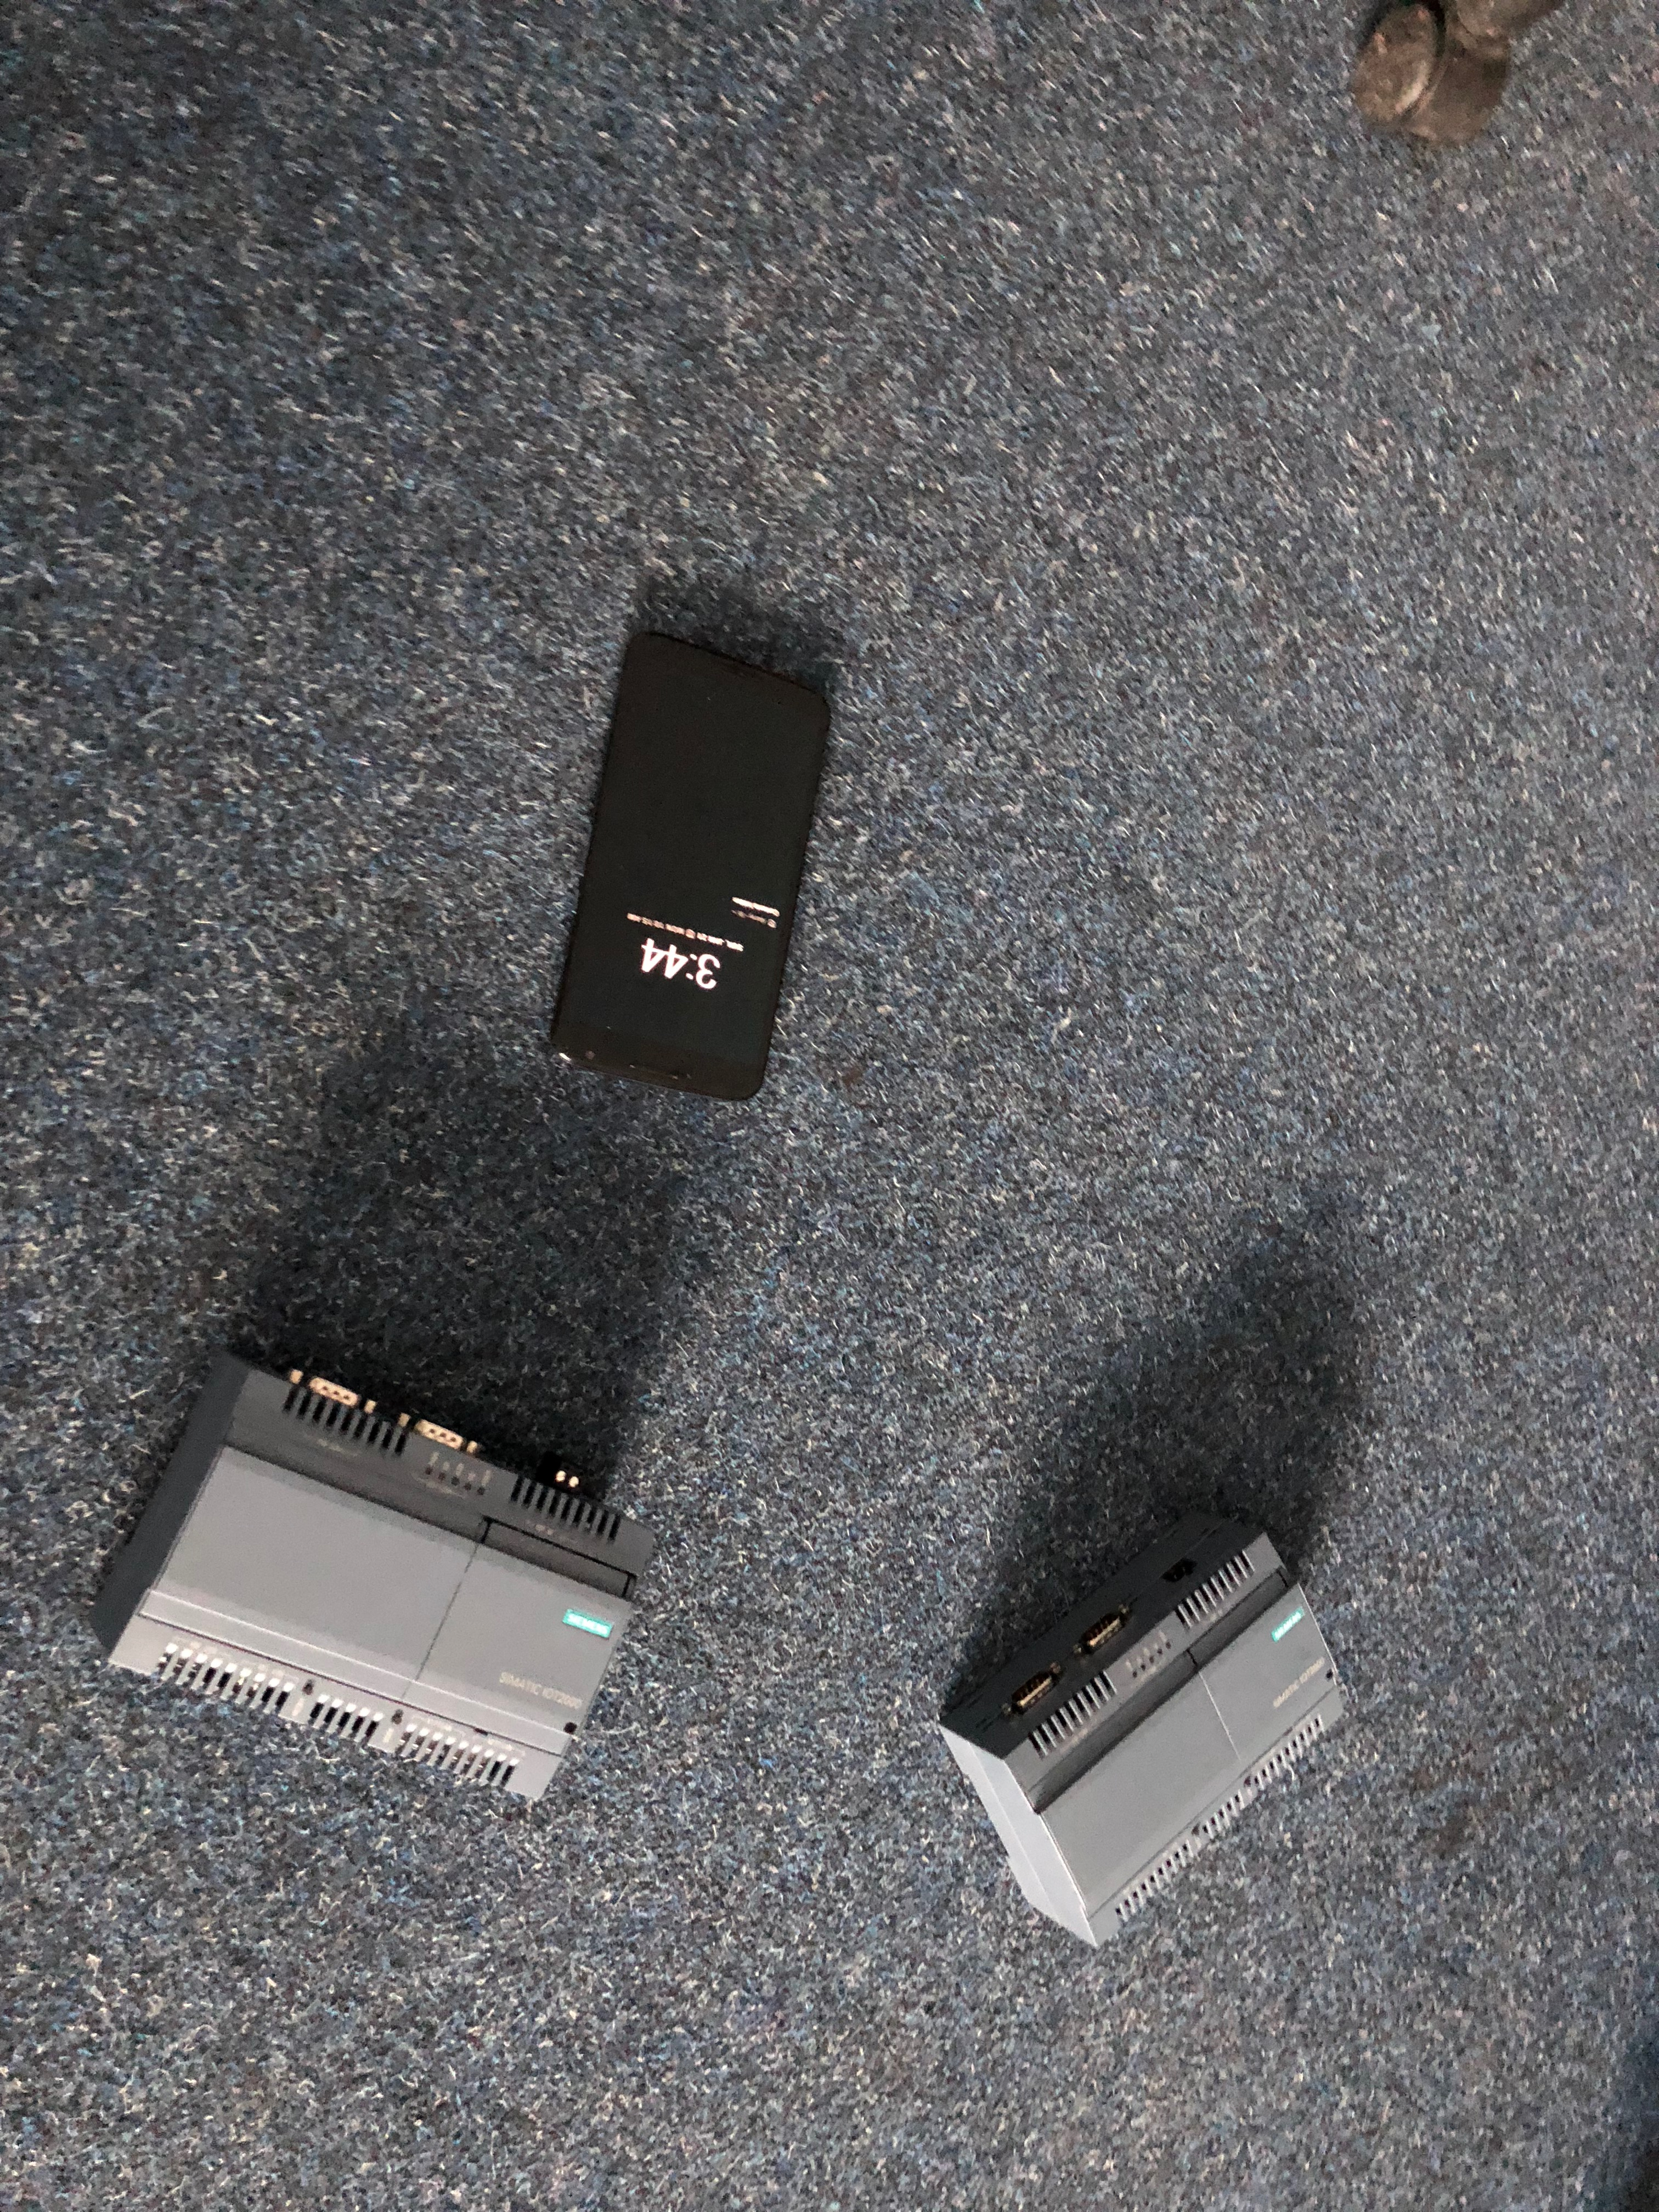device: (85, 1350, 657, 1801), (938, 1512, 1345, 1947)
